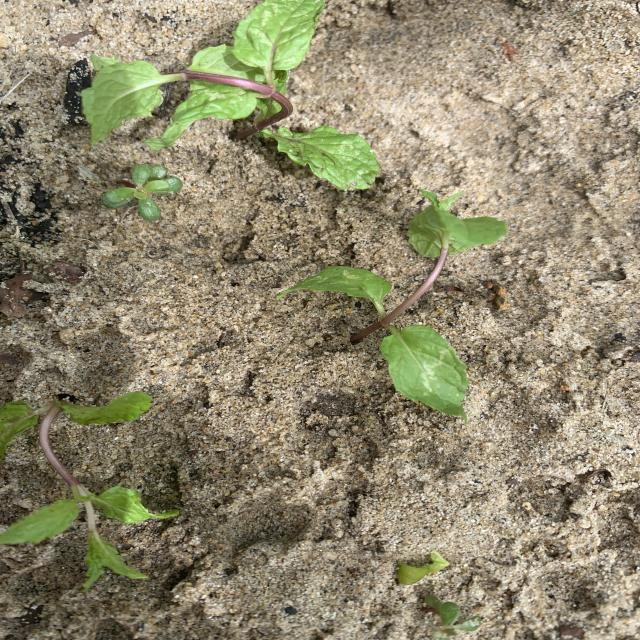crop: (81, 0, 378, 189), (276, 191, 506, 422), (0, 392, 179, 589)
weed: (102, 164, 182, 221), (424, 595, 480, 640)
